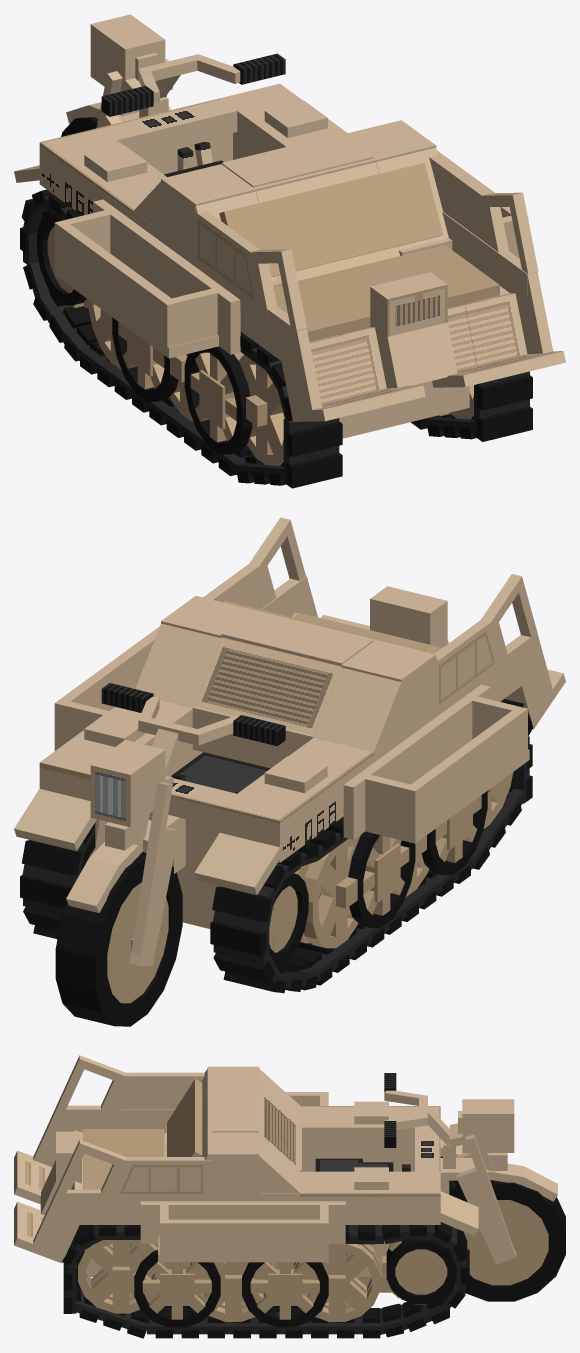
File: sdkfz2.gltf
The picture shows the model from 3 angles, top to bottom: view 1: azimuth 30°, elevation 25°; view 2: azimuth 150°, elevation 25°; view 3: azimuth 270°, elevation 25°; orthographic projection. The views are drawn at different scales.
Parts seen in each view (by area): view 1: a3fb1228-dcdb-2719-64f3-a5f9bb429657, 38fd2b27-b798-1be1-e5eb-b2796379213d, 116c5566-759b-98fc-84ad-0ddc227a13f3, f2e0dc7b-8448-205c-c938-210268f9c755, 2daff783-7859-b9b9-5556-07b5d79df347, f0252ec8-899c-4620-8282-ae8194e39ca0, 4fbb7a3d-d064-de26-bcea-d41cf6b41670, a4cd02b6-b055-a8b3-0f93-4d40576e3365, 0c9f8dd0-5516-23fd-bb38-340cd91e79fb, d0065e7f-546b-026d-18b5-b69b2fef62cb, 03711820-b51f-f654-80d8-4128ad468262, d07a06e2-8dc6-ab39-a46e-8032ffa4a915 (+44 smaller); view 2: 1c27701d-d2a3-defb-ce18-debb6967a7a0, f2e0dc7b-8448-205c-c938-210268f9c755, 116c5566-759b-98fc-84ad-0ddc227a13f3, c27f0c28-3a7a-4378-4a00-0c52679355cd, 2daff783-7859-b9b9-5556-07b5d79df347, 03711820-b51f-f654-80d8-4128ad468262, 00ab9d5f-8460-4e1e-416b-2d27f12d469c, a4cd02b6-b055-a8b3-0f93-4d40576e3365, d0065e7f-546b-026d-18b5-b69b2fef62cb, d283ba1f-0014-acf0-0665-7b21aeeb0d29, 4fbb7a3d-d064-de26-bcea-d41cf6b41670, 01730a07-fed4-fedc-453c-e87c3668ddf0 (+55 smaller); view 3: 74cf26dd-061c-da8e-f1ac-6f7cd1ca42f0, d283ba1f-0014-acf0-0665-7b21aeeb0d29, fb8e2efd-8a94-6d8b-5945-f1de370a5b75, f2e0dc7b-8448-205c-c938-210268f9c755, 6260962e-29b2-47e8-f673-7be006327ba5, 2b721792-1768-f25e-c081-2d103158b5fd, 38fd2b27-b798-1be1-e5eb-b2796379213d, 03711820-b51f-f654-80d8-4128ad468262, b30c40ee-d257-5ea8-59ab-b42a606fd55e, a4cd02b6-b055-a8b3-0f93-4d40576e3365, a3fb1228-dcdb-2719-64f3-a5f9bb429657, ee29f7e3-b4d8-411e-ed43-246c837f2bc8 (+67 smaller).
Part boxes in pixels (bbox=[...]): a3fb1228-dcdb-2719-64f3-a5f9bb429657: bbox=[219, 163, 443, 276]; 38fd2b27-b798-1be1-e5eb-b2796379213d: bbox=[273, 245, 499, 341]; 116c5566-759b-98fc-84ad-0ddc227a13f3: bbox=[93, 199, 240, 354]; f2e0dc7b-8448-205c-c938-210268f9c755: bbox=[39, 127, 206, 274]; 2daff783-7859-b9b9-5556-07b5d79df347: bbox=[60, 224, 172, 342]; f0252ec8-899c-4620-8282-ae8194e39ca0: bbox=[100, 98, 237, 155]; 4fbb7a3d-d064-de26-bcea-d41cf6b41670: bbox=[370, 272, 447, 346]; a4cd02b6-b055-a8b3-0f93-4d40576e3365: bbox=[221, 133, 373, 187]; 0c9f8dd0-5516-23fd-bb38-340cd91e79fb: bbox=[375, 322, 457, 388]; d0065e7f-546b-026d-18b5-b69b2fef62cb: bbox=[161, 164, 255, 253]; 03711820-b51f-f654-80d8-4128ad468262: bbox=[90, 14, 165, 91]; d07a06e2-8dc6-ab39-a46e-8032ffa4a915: bbox=[340, 302, 476, 395]; 1c27701d-d2a3-defb-ce18-debb6967a7a0: bbox=[194, 637, 341, 735]; f2e0dc7b-8448-205c-c938-210268f9c755: bbox=[220, 699, 447, 841]; 116c5566-759b-98fc-84ad-0ddc227a13f3: bbox=[343, 684, 490, 839]; c27f0c28-3a7a-4378-4a00-0c52679355cd: bbox=[314, 667, 401, 751]; 2daff783-7859-b9b9-5556-07b5d79df347: bbox=[411, 710, 523, 828]; 03711820-b51f-f654-80d8-4128ad468262: bbox=[90, 740, 165, 827]; 00ab9d5f-8460-4e1e-416b-2d27f12d469c: bbox=[135, 623, 220, 707]; a4cd02b6-b055-a8b3-0f93-4d40576e3365: bbox=[221, 610, 373, 666]; d0065e7f-546b-026d-18b5-b69b2fef62cb: bbox=[341, 640, 435, 731]; d283ba1f-0014-acf0-0665-7b21aeeb0d29: bbox=[39, 700, 192, 795]; 4fbb7a3d-d064-de26-bcea-d41cf6b41670: bbox=[370, 586, 447, 647]; 01730a07-fed4-fedc-453c-e87c3668ddf0: bbox=[194, 833, 283, 895]; 74cf26dd-061c-da8e-f1ac-6f7cd1ca42f0: bbox=[166, 1219, 319, 1254]; d283ba1f-0014-acf0-0665-7b21aeeb0d29: bbox=[190, 1171, 440, 1209]; fb8e2efd-8a94-6d8b-5945-f1de370a5b75: bbox=[140, 1201, 345, 1243]; f2e0dc7b-8448-205c-c938-210268f9c755: bbox=[300, 1106, 440, 1143]; 6260962e-29b2-47e8-f673-7be006327ba5: bbox=[207, 1132, 259, 1193]; 2b721792-1768-f25e-c081-2d103158b5fd: bbox=[122, 1157, 211, 1193]; 38fd2b27-b798-1be1-e5eb-b2796379213d: bbox=[82, 1129, 164, 1189]; 03711820-b51f-f654-80d8-4128ad468262: bbox=[462, 1099, 514, 1152]; b30c40ee-d257-5ea8-59ab-b42a606fd55e: bbox=[122, 1072, 204, 1109]; a4cd02b6-b055-a8b3-0f93-4d40576e3365: bbox=[211, 1087, 258, 1132]; a3fb1228-dcdb-2719-64f3-a5f9bb429657: bbox=[167, 1079, 202, 1156]; ee29f7e3-b4d8-411e-ed43-246c837f2bc8: bbox=[456, 1167, 516, 1264].
Size of the model in its own units: 2.25 by 1.56 by 3.99.
Materials: 1 (1 with a texture image).
